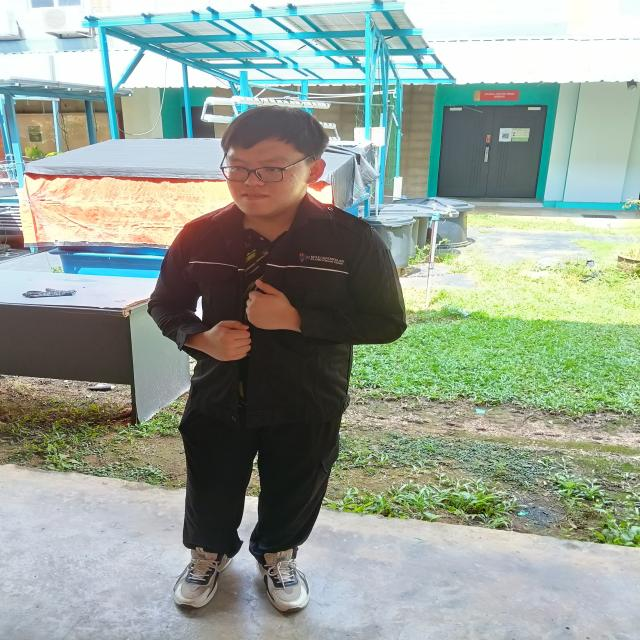person_with_labcoat: (149, 106, 406, 612)
